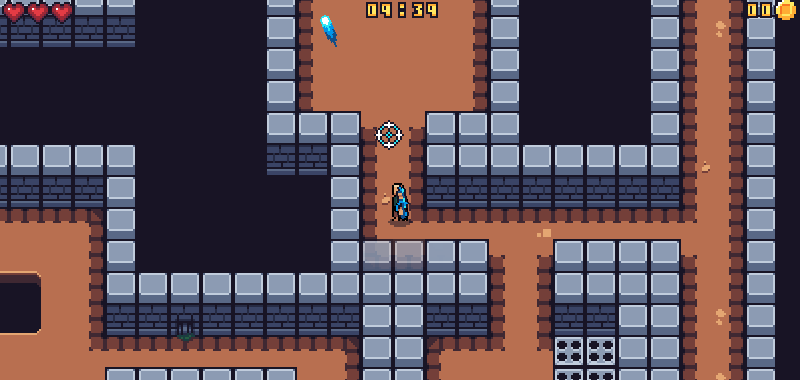trap_off: (553, 336, 616, 380)
